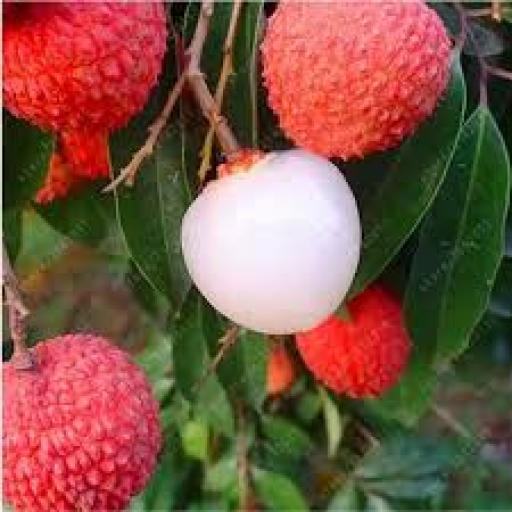lychee: (183, 151, 361, 334), (3, 3, 166, 202), (262, 0, 450, 159), (3, 335, 161, 511), (296, 287, 411, 398), (267, 342, 295, 395)
